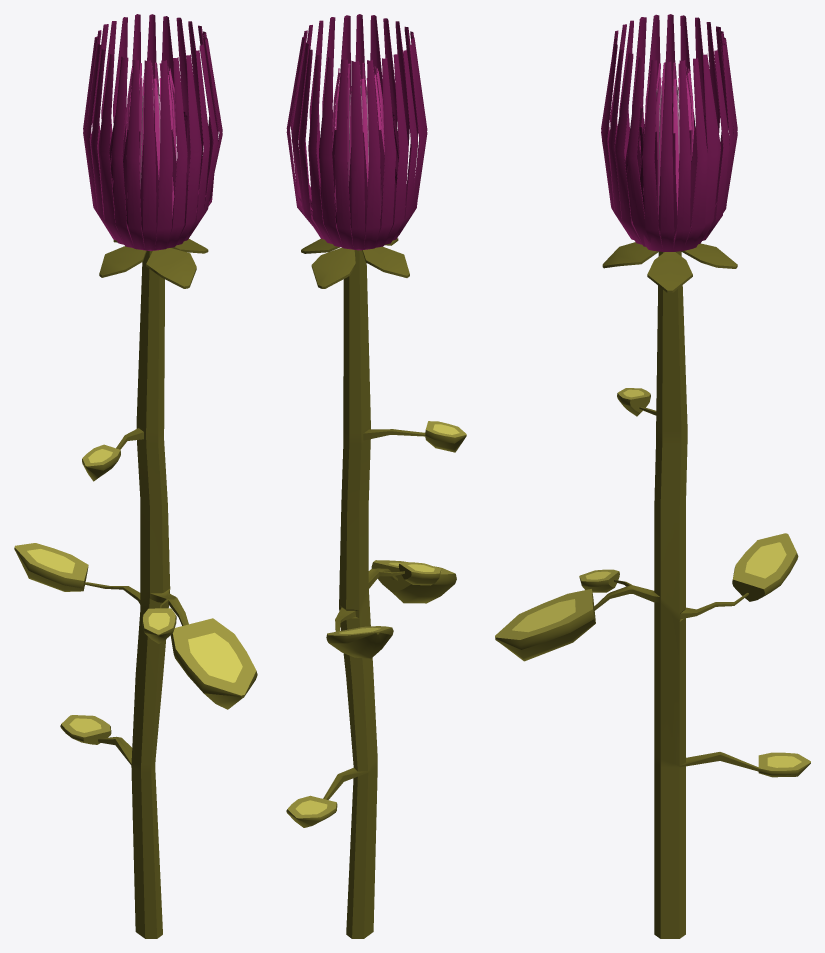
The model's file is Planta Fechada_16H.fbx.
The picture shows the model from 3 angles, left to right: view 1: azimuth 30°, elevation 25°; view 2: azimuth 150°, elevation 25°; view 3: azimuth 270°, elevation 25°; orthographic projection.
Parts seen in each view (by area): view 1: pCylinder6, pCube4, pCube5, pCube8, pCylinder1, pCylinder5, pCube7, pCube6, pCube2; view 2: pCylinder6, pCube4, pCylinder1, pCube5, pCube8, pCylinder5, pCube7, pCube2, pCube6; view 3: pCube4, pCylinder6, pCube5, pCube8, pCylinder1, pCylinder5, pCube7, pCube6, pCube2.
Boxes of the visible parts, <box> form: pCylinder6: <box>83,14,222,250</box>; pCube4: <box>84,239,208,938</box>; pCube5: <box>170,618,257,709</box>; pCube8: <box>14,543,88,591</box>; pCylinder1: <box>125,62,176,218</box>; pCylinder5: <box>109,104,187,237</box>; pCube7: <box>60,715,111,744</box>; pCube6: <box>142,608,176,643</box>; pCube2: <box>82,444,120,481</box>; pCylinder6: <box>286,14,427,250</box>; pCube4: <box>301,238,425,938</box>; pCylinder1: <box>332,62,384,218</box>; pCube5: <box>371,560,456,603</box>; pCube8: <box>326,626,393,658</box>; pCylinder5: <box>320,109,399,237</box>; pCube7: <box>286,795,337,827</box>; pCube2: <box>425,421,466,452</box>; pCube6: <box>398,562,441,585</box>; pCube4: <box>594,242,758,938</box>; pCylinder6: <box>601,14,737,251</box>; pCube5: <box>495,589,595,661</box>; pCube8: <box>732,533,798,601</box>; pCylinder1: <box>643,62,694,219</box>; pCylinder5: <box>625,103,707,236</box>; pCube7: <box>758,752,810,777</box>; pCube6: <box>579,569,619,592</box>; pCube2: <box>617,388,650,416</box>.
Bounding box in the file's own units: 358 × 2058 × 656.
